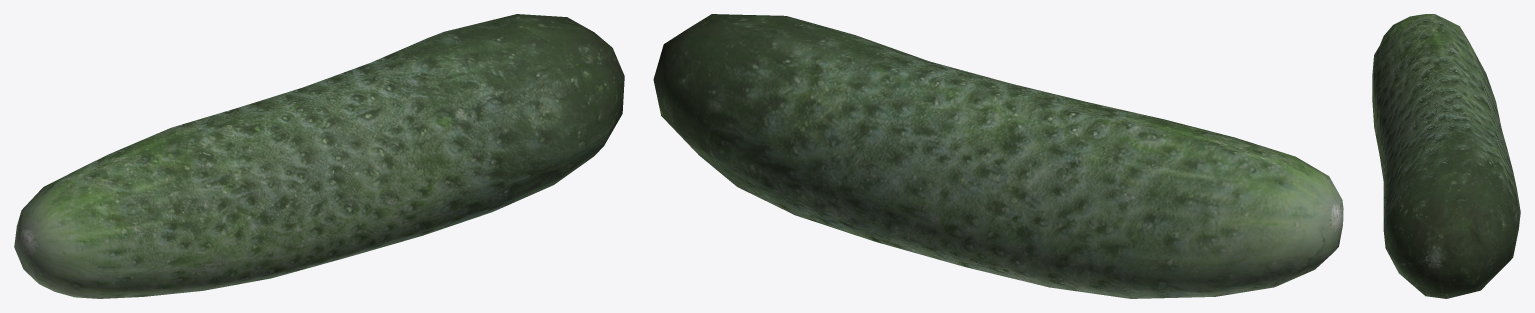
Rendered from Огурец 1 Вариант.fbx.
The picture shows the model from 3 angles, left to right: view 1: azimuth 30°, elevation 25°; view 2: azimuth 150°, elevation 25°; view 3: azimuth 270°, elevation 25°; orthographic projection. The views are drawn at different scales.
Parts seen in each view (by area): view 1: SM_foo_cucumber_01_a.001; view 2: SM_foo_cucumber_01_a.001; view 3: SM_foo_cucumber_01_a.001.
Part boxes in pixels (x1,y1,x2,y2): SM_foo_cucumber_01_a.001: [14, 14, 624, 298]; SM_foo_cucumber_01_a.001: [653, 14, 1343, 298]; SM_foo_cucumber_01_a.001: [1372, 14, 1520, 298].
Bounding box in the file's own units: 1838 × 494 × 488.
Materials: 1 (1 with a texture image).
